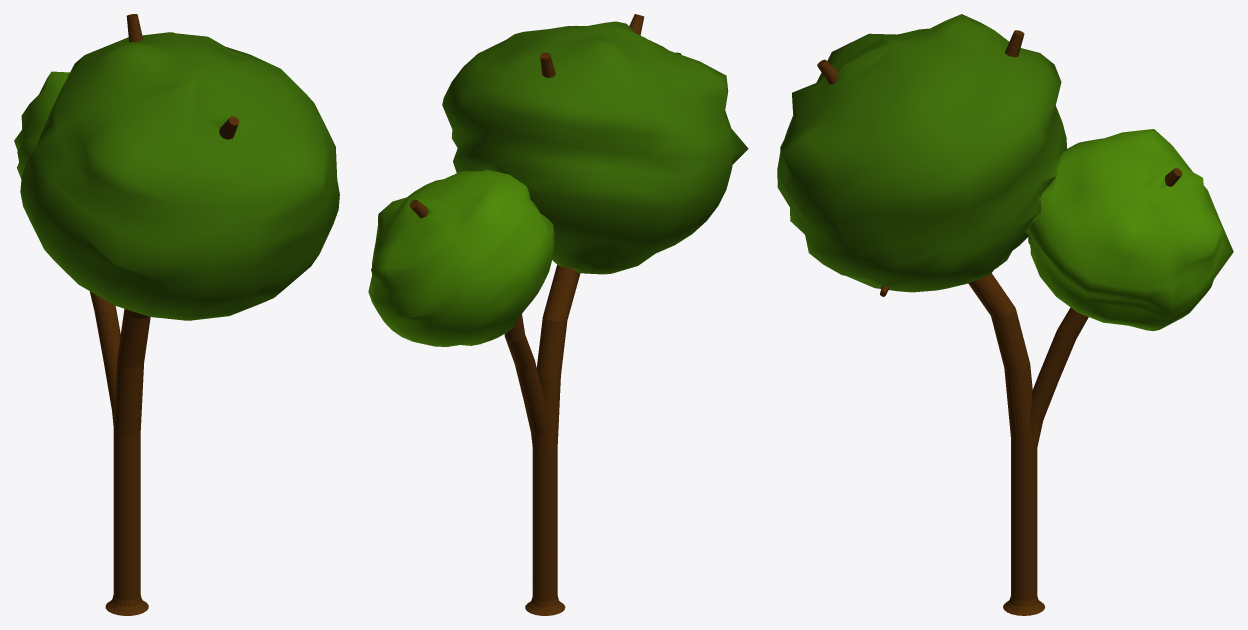
Rendered from tree_1.fbx.
3 views of the same model, side by side, from view 1: azimuth 30°, elevation 25°; view 2: azimuth 150°, elevation 25°; view 3: azimuth 270°, elevation 25° (orthographic). The views are drawn at different scales.
Visible parts, largest first — view 1: pSphere20; view 2: pSphere20; view 3: pSphere20.
Boxes of the visible parts, left/top/right/bottom form: pSphere20: left=14, top=14, right=339, bottom=615; pSphere20: left=368, top=14, right=748, bottom=615; pSphere20: left=777, top=14, right=1233, bottom=615.
Size of the model in its own units: 6.19 by 12.54 by 9.
